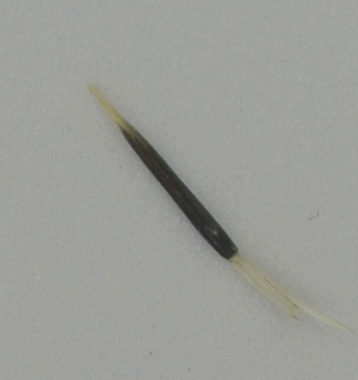เมล็ดดีเรียวยาว: (77, 82, 358, 333)
